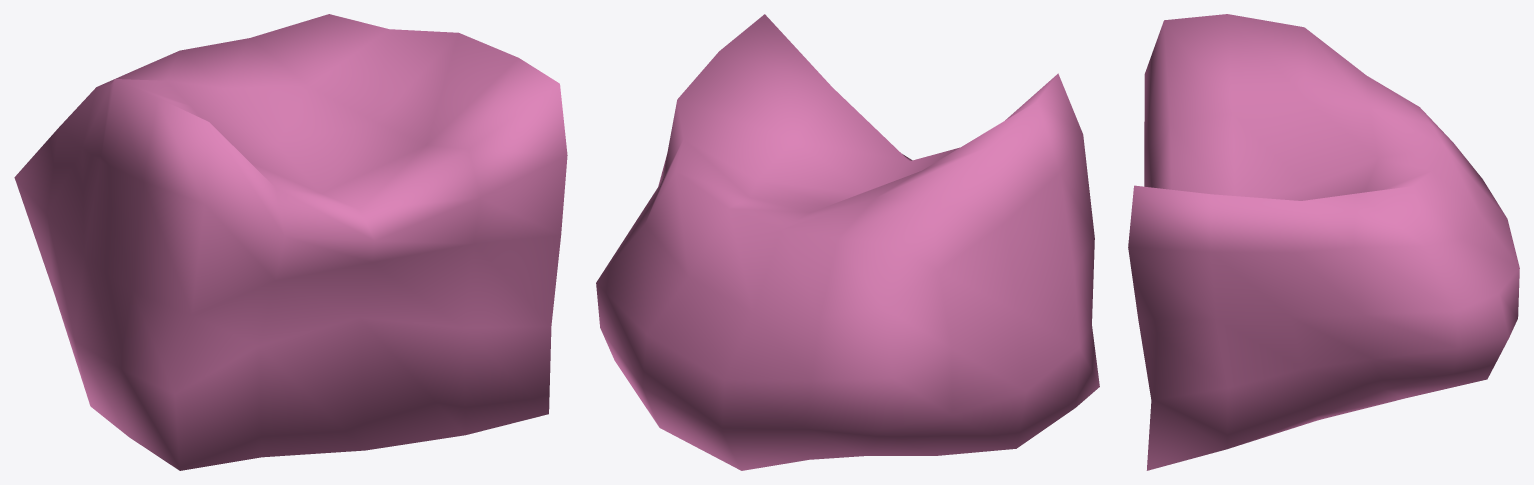
File: UFO1.Piece.02.fbx
The picture shows the model from 3 angles, left to right: view 1: azimuth 30°, elevation 25°; view 2: azimuth 150°, elevation 25°; view 3: azimuth 270°, elevation 25°; orthographic projection. The views are drawn at different scales.
Parts seen in each view (by area): view 1: UFO1.Piece.02; view 2: UFO1.Piece.02; view 3: UFO1.Piece.02.
Boxes of the visible parts, bbox=[...] form: UFO1.Piece.02: bbox=[14, 14, 567, 470]; UFO1.Piece.02: bbox=[596, 14, 1099, 470]; UFO1.Piece.02: bbox=[1128, 14, 1519, 470].
Bounding box in the file's own units: 206 × 183 × 201.
